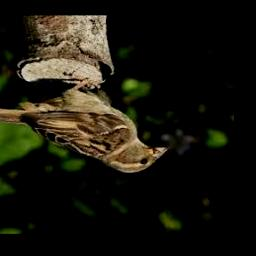Sparrow: (0, 80, 168, 174)
